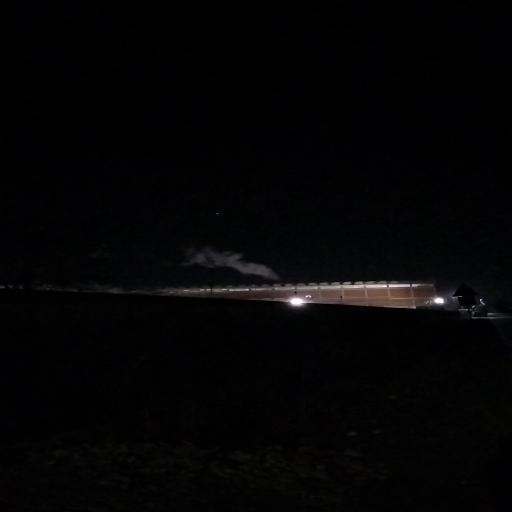leakage: (172, 236, 296, 285)
